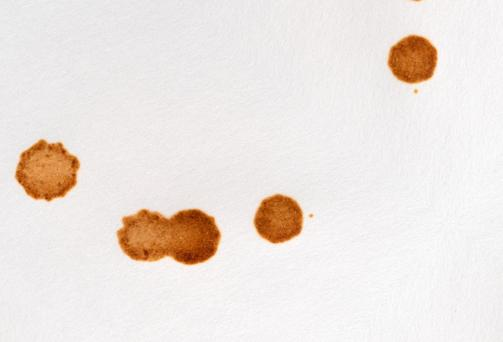stain: (112, 206, 227, 272), (12, 133, 91, 206), (379, 31, 443, 94), (249, 191, 316, 251)
